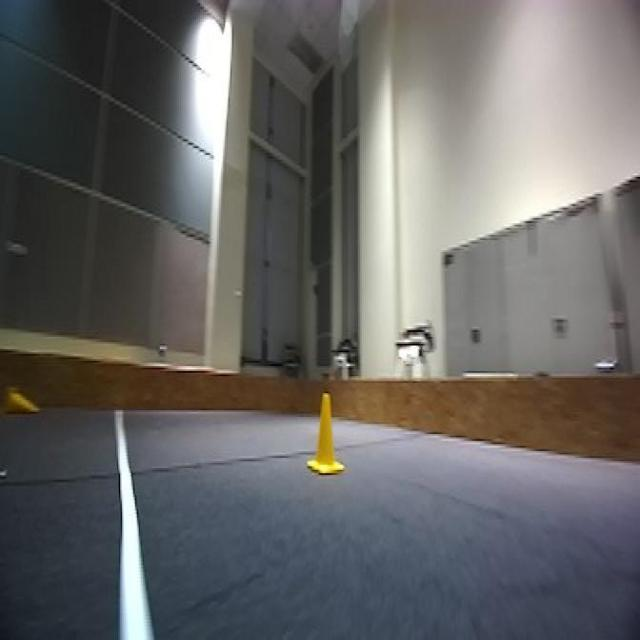frc_cone: (306, 391, 344, 475), (7, 385, 38, 415)
